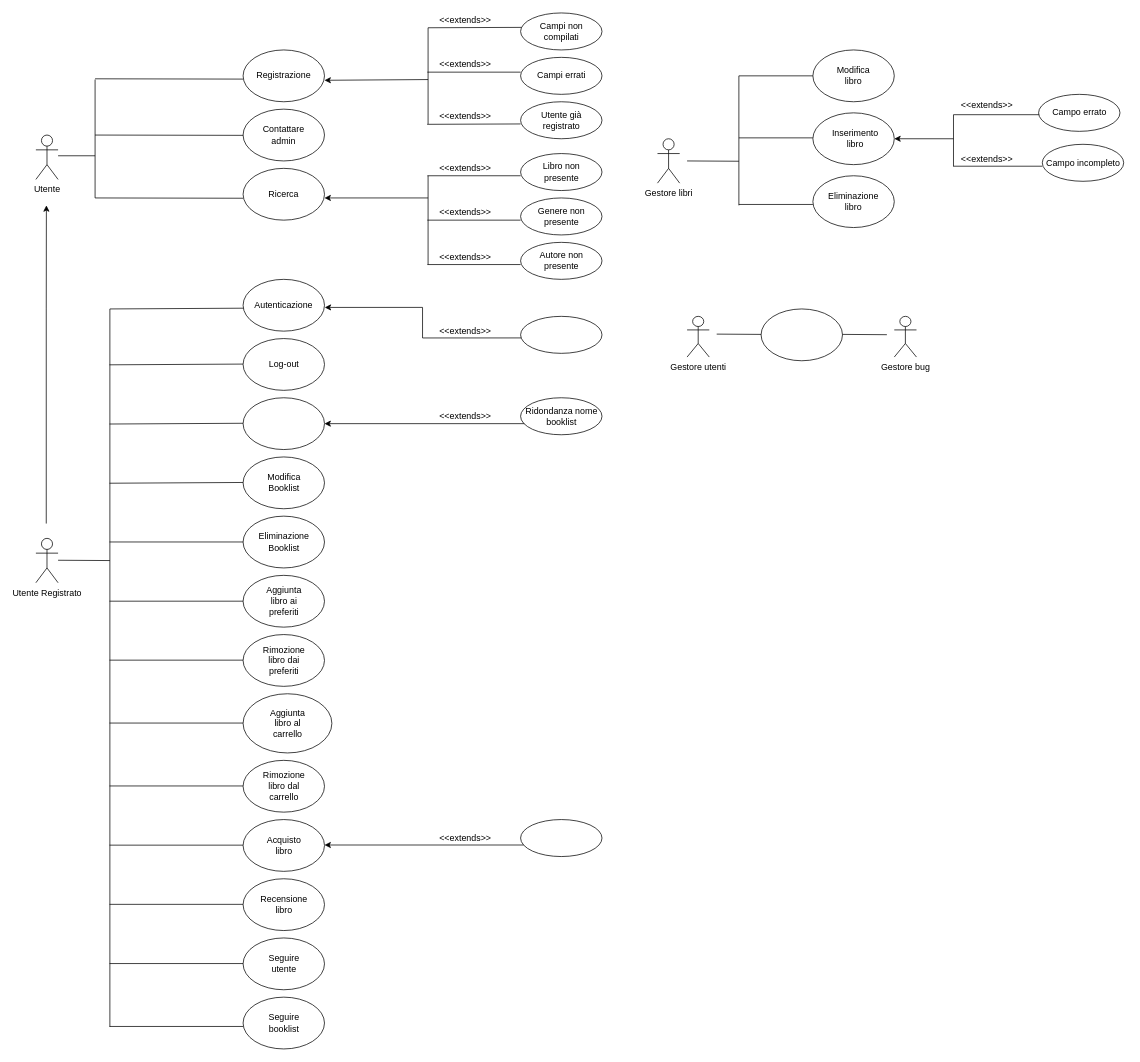
Image size: 1140x1062. Some labels were removed from this diagram. Here are the shapes that lost their labels. From the top down, the box of each, then its label:
(520, 316, 602, 353): Autenticazione fallita
(760, 308, 842, 361): Eliminazione utente
(242, 397, 324, 450): Creazione Booklist
(520, 819, 602, 857): Dati non conformi
